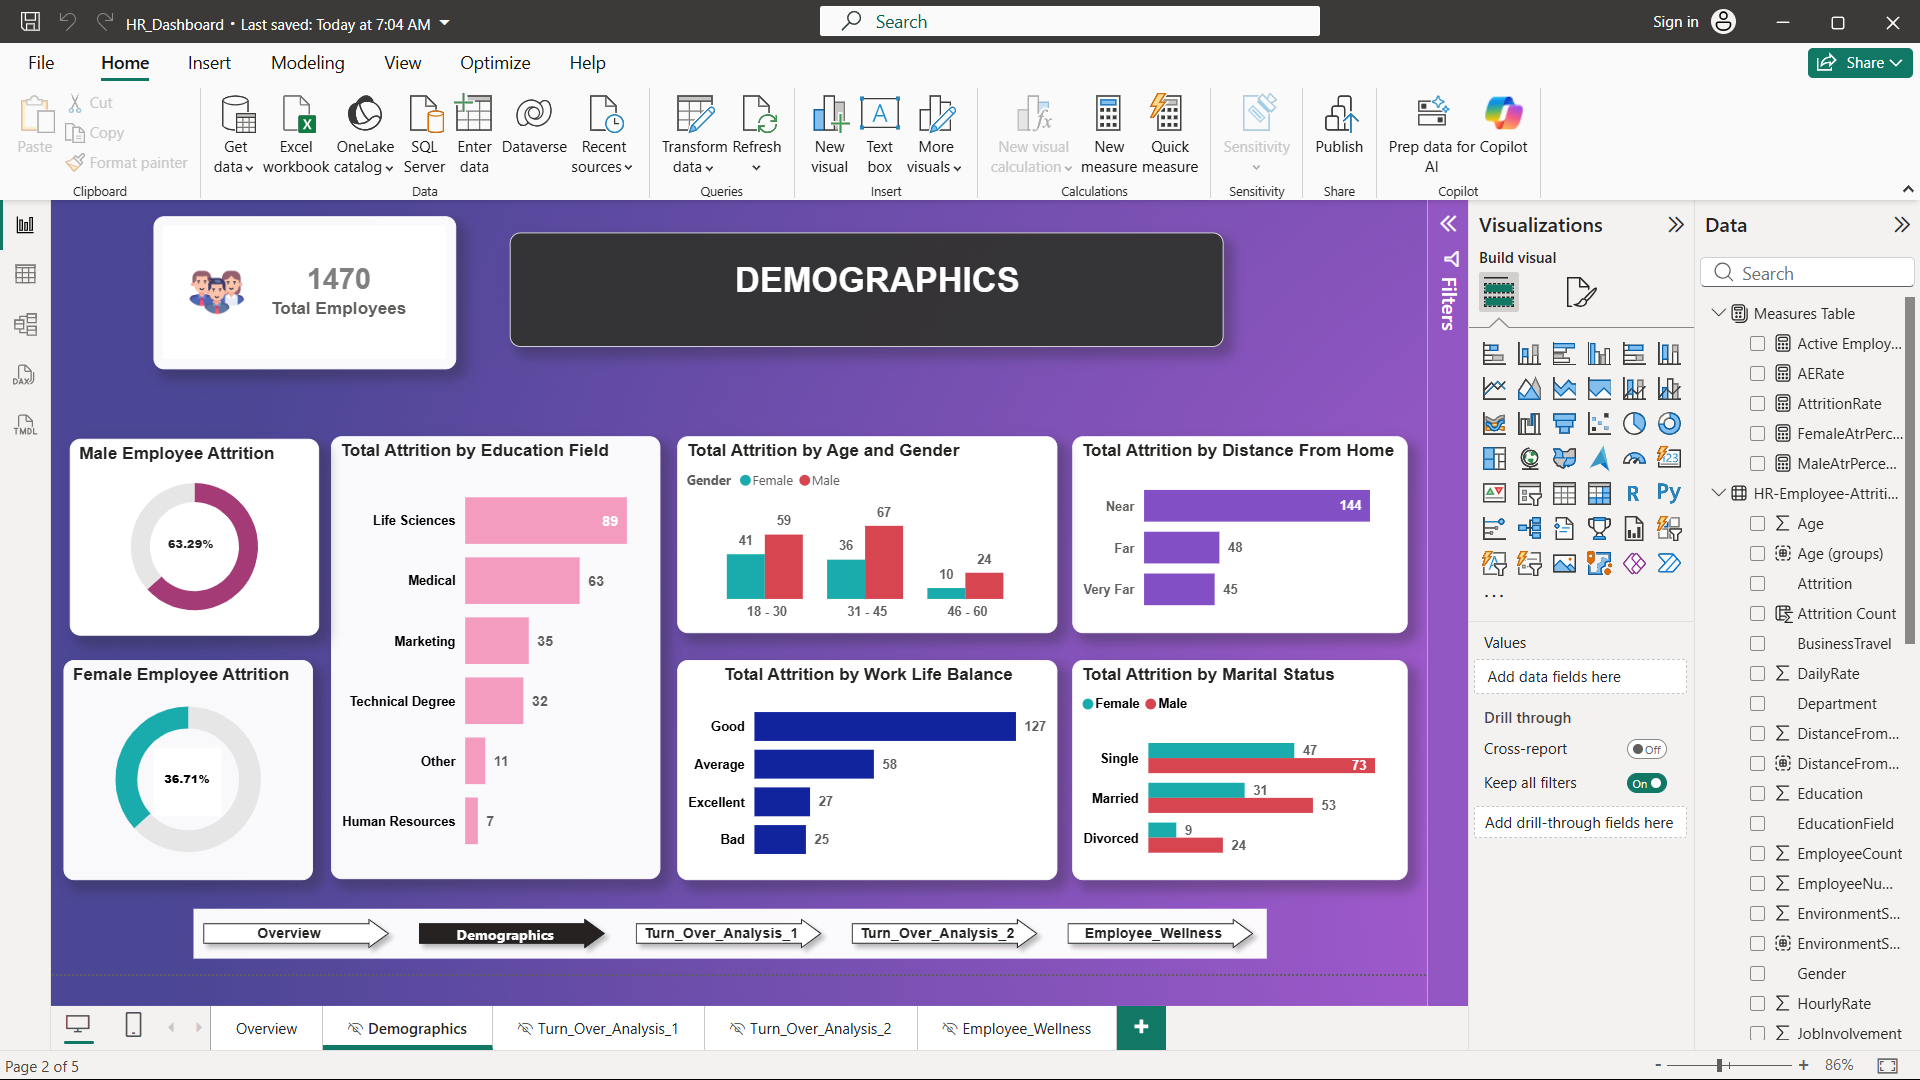

The dashboard page shown, as its layout file describes it:
{"tool":"powerbi","page":{"name":"Demographics","canvas":[1280,720],"ordinal":1},"visuals":[{"type":"textbox","box":[426.5,30.1,663.9,106],"z":0},{"type":"cardVisual","fields":{"Data":["Sum(HR-Employee-Attrition.EmployeeCount)"]},"box":[95.2,15.7,281.9,142.2],"z":2000},{"type":"barChart","title":"Total Attrition by Education Field","fields":{"Category":["HR-Employee-Attrition.EducationField"],"Y":["Sum(HR-Employee-Attrition.Attrition Count)"]},"box":[260.7,219.9,306.8,412.3],"z":13000},{"type":"barChart","title":"Total Attrition by Work Life Balance","fields":{"Category":["HR-Employee-Attrition.WorkLifeBalance (groups)"],"Y":["Sum(HR-Employee-Attrition.Attrition Count)"]},"box":[582.6,427.4,353.8,204.8],"z":14000},{"type":"barChart","title":"Total Attrition by Distance From Home","fields":{"Category":["HR-Employee-Attrition.DistanceFromHome (groups)"],"Y":["Sum(HR-Employee-Attrition.Attrition Count)"]},"box":[950.5,219.9,312.1,183.5],"z":16000},{"type":"clusteredColumnChart","title":"Total Attrition by Age and Gender","fields":{"Category":["HR-Employee-Attrition.Age (groups)"],"Y":["Sum(HR-Employee-Attrition.Attrition Count)"],"Series":["HR-Employee-Attrition.Gender"]},"box":[582.6,219.9,353.8,183.5],"z":18000},{"type":"clusteredBarChart","title":"Total Attrition by Marital Status","fields":{"Category":["HR-Employee-Attrition.MaritalStatus"],"Y":["Sum(HR-Employee-Attrition.Attrition Count)"],"Series":["HR-Employee-Attrition.Gender"]},"box":[950.5,427.4,312.1,204.8],"z":19000},{"type":"donutChart","title":"Male Employee Attrition ","fields":{"Category":["HR-Employee-Attrition.Gender"],"Y":["Sum(HR-Employee-Attrition.Attrition Count)"]},"box":[17.7,221.7,232.3,183.5],"z":21000},{"type":"donutChart","title":"Female Employee Attrition","fields":{"Category":["HR-Employee-Attrition.Gender"],"Y":["Sum(HR-Employee-Attrition.Attrition Count)"]},"box":[11.5,427.4,232.3,204.8],"z":22000},{"type":"card","fields":{"Values":["HR-Employee-Attrition.MaleAtrPercentage"]},"box":[102.9,297,55.9,51.4],"z":27000},{"type":"card","fields":{"Values":["HR-Employee-Attrition.FemaleAtrPercentage"]},"box":[95.8,509,63,63.8],"z":28000},{"type":"pageNavigator","box":[133,658.8,998.4,46.1],"z":29000}]}

Visuals, with their boxes on the page's 1280x720 design canvas (x1, y1, x2, y2). These are canvas units, not pixel positions in the 1920x1080 screenshot, which may show the page scaled, cropped or inside an application window:
textbox: {"left": 426, "top": 30, "right": 1090, "bottom": 136}
cardVisual - Sum(HR-Employee-Attrition.EmployeeCount): {"left": 95, "top": 16, "right": 377, "bottom": 158}
"Total Attrition by Education Field" barChart: {"left": 261, "top": 220, "right": 568, "bottom": 632}
"Total Attrition by Work Life Balance" barChart: {"left": 583, "top": 427, "right": 936, "bottom": 632}
"Total Attrition by Distance From Home" barChart: {"left": 950, "top": 220, "right": 1263, "bottom": 403}
"Total Attrition by Age and Gender" clusteredColumnChart: {"left": 583, "top": 220, "right": 936, "bottom": 403}
"Total Attrition by Marital Status" clusteredBarChart: {"left": 950, "top": 427, "right": 1263, "bottom": 632}
"Male Employee Attrition " donutChart: {"left": 18, "top": 222, "right": 250, "bottom": 405}
"Female Employee Attrition" donutChart: {"left": 12, "top": 427, "right": 244, "bottom": 632}
card - HR-Employee-Attrition.MaleAtrPercentage: {"left": 103, "top": 297, "right": 159, "bottom": 348}
card - HR-Employee-Attrition.FemaleAtrPercentage: {"left": 96, "top": 509, "right": 159, "bottom": 573}
pageNavigator: {"left": 133, "top": 659, "right": 1131, "bottom": 705}
